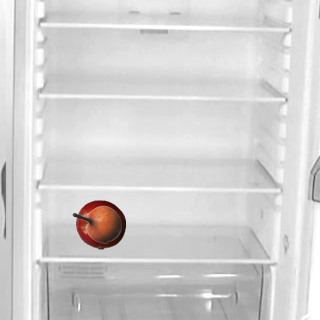Apple Braeburn: (75, 199, 125, 249)
Granadilla: (71, 199, 121, 249)
